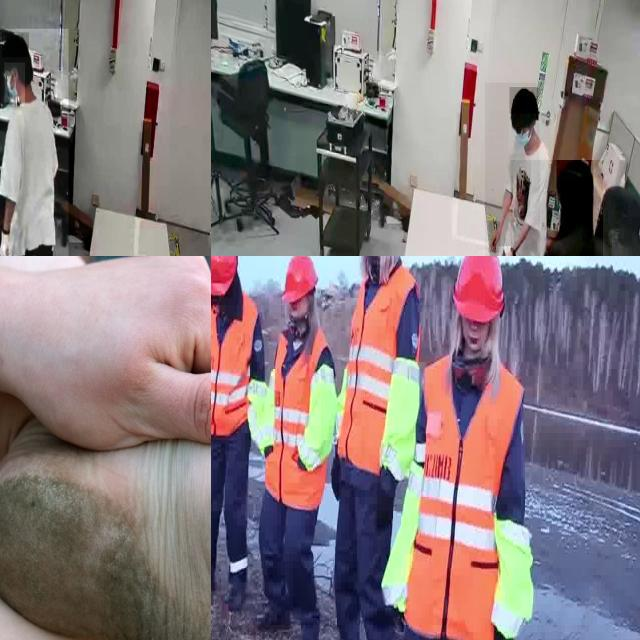Barefoots: (0, 435, 211, 640)
boots: (258, 578, 288, 633), (225, 558, 252, 612), (294, 599, 320, 640), (211, 544, 217, 595)
face_mask: (508, 109, 536, 154), (5, 62, 25, 102)
hand_glove: (0, 222, 17, 256), (332, 447, 342, 499)
hand_noglove: (489, 222, 501, 254), (498, 246, 513, 256)
head_helmet: (449, 256, 502, 323), (281, 256, 317, 303), (211, 256, 240, 297)
head_nohelmet: (556, 160, 594, 190), (509, 87, 538, 115), (2, 32, 30, 58)
person: (419, 256, 526, 640), (332, 256, 417, 640), (269, 256, 336, 640), (211, 256, 258, 603), (0, 29, 68, 256), (485, 82, 540, 256), (510, 160, 603, 256)
vest: (428, 348, 518, 640), (338, 263, 419, 480), (277, 333, 331, 502), (211, 283, 255, 437)
